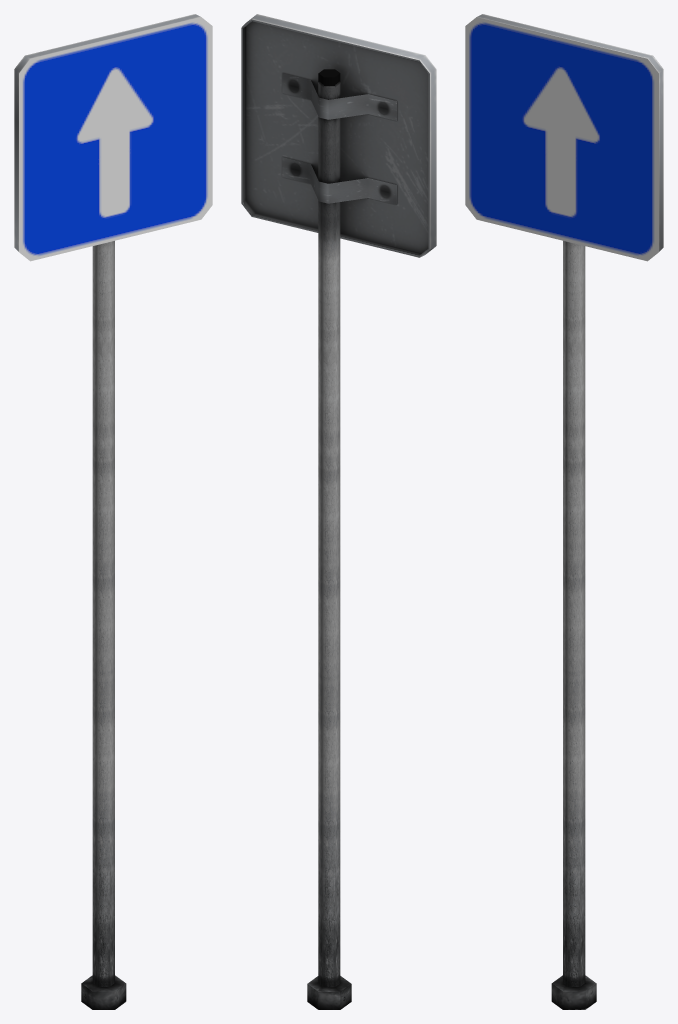
Rendered from ROD0310038.FBX.
3 views of the same model, side by side, from view 1: azimuth 30°, elevation 25°; view 2: azimuth 150°, elevation 25°; view 3: azimuth 330°, elevation 25° (orthographic).
Visible parts, largest first — view 1: smROD0310038; view 2: smROD0310038; view 3: smROD0310038.
Part boxes in pixels (left/top/right/bottom): smROD0310038: left=14, top=14, right=212, bottom=1009; smROD0310038: left=241, top=14, right=436, bottom=1009; smROD0310038: left=465, top=14, right=663, bottom=1009.
Size of the model in its own units: 0.5079 by 2.44 by 0.1057.
1 material, 1 textured.
